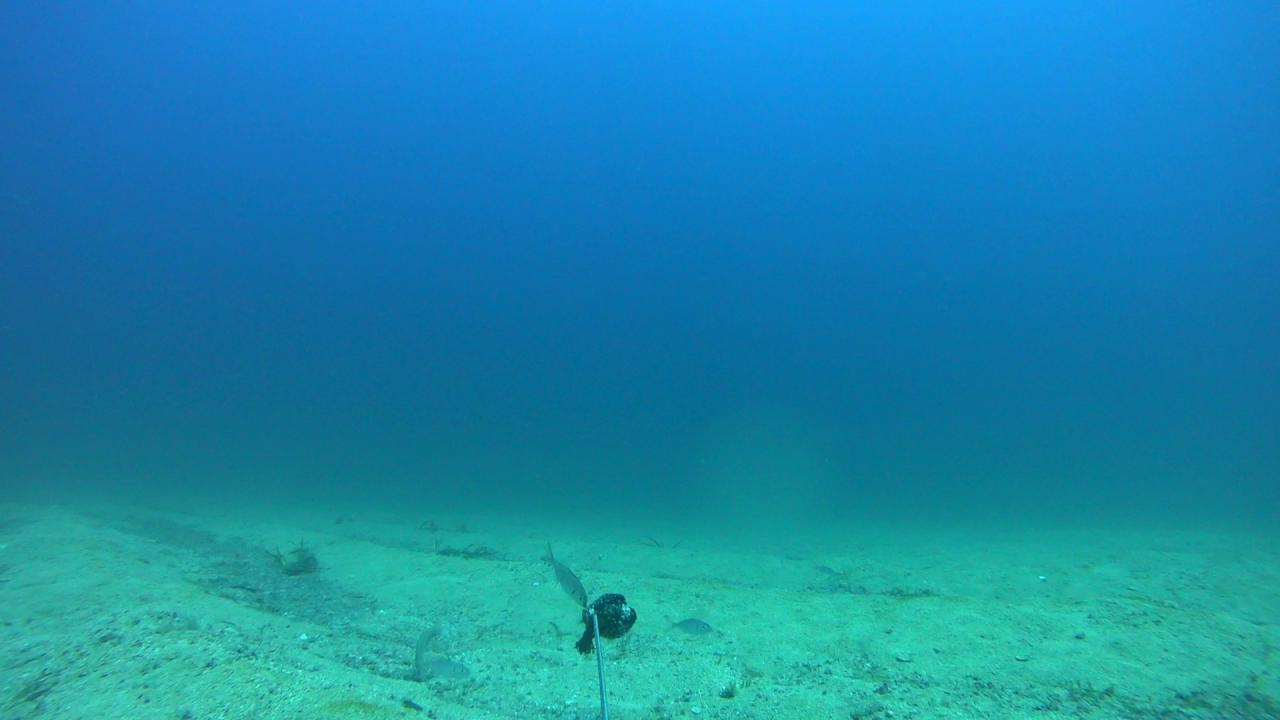pagellus: (540, 544, 587, 608), (421, 656, 473, 681), (666, 616, 711, 634)
